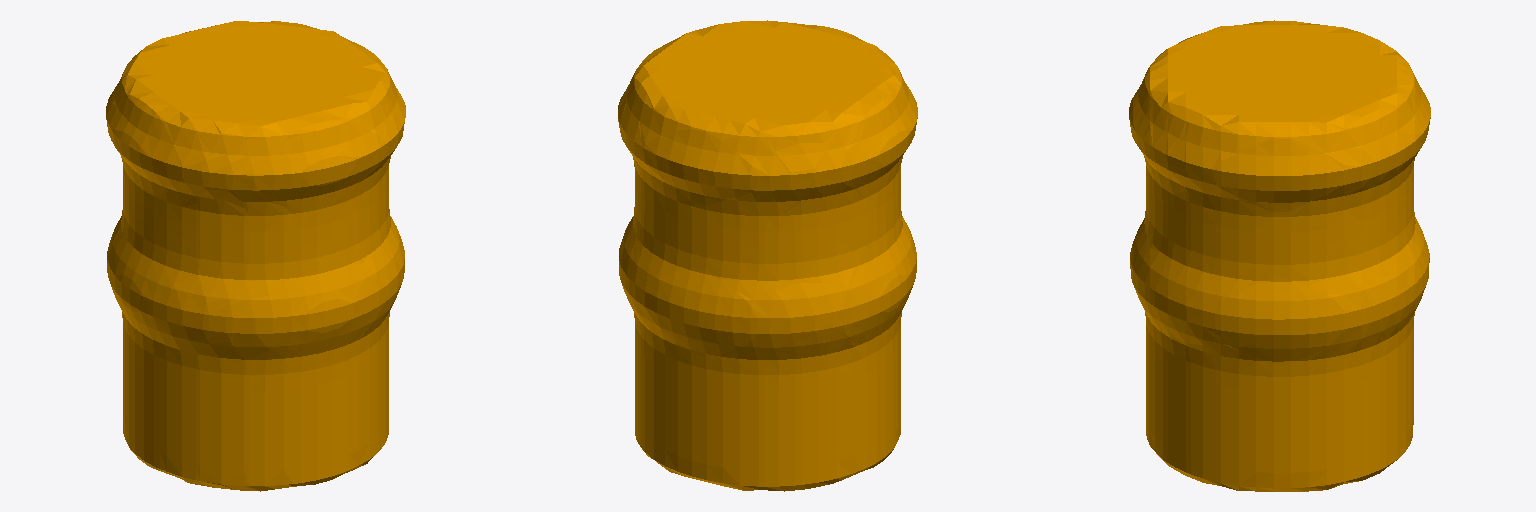
URDF robot description (cylinder_../../meshes/cylinders/cylinder_61.stl):
<?xml version="1.0" encoding="utf-8"?>  <robot name="cylinder_../../meshes/cylinders/cylinder_61.stl">   <link name="cylinder_../../meshes/cylinders/cylinder_61.stl">     <visual>       <geometry>         <mesh filename="../meshes/cylinders/cylinder_61.stl" scale="1 1 1"/>       </geometry>     </visual>     <collision>       <geometry>         <mesh filename="../meshes/cylinders/cylinder_61.stl" scale="1 1 1"/>       </geometry>     </collision>     <inertial>        <origin         xyz="0 0 0"         rpy="0 0 0" />       <mass value="0.554587744783615"/>       <origin rpy="0 0 0" xyz="0 0 0"/>       <inertia ixx="0.0008165385025342961" ixy="1.351224918593318e-08" ixz="2.4172365936160312e-08" iyy="0.0008165379533432" iyz="4.246112730033585e-08" izz="0.00042759288844680893"/>     </inertial>   </link>  </robot>

--- What the picture shows (computed from the rendered views, not written in the file) ---
Views: 3 orthographic renders of the robot side by side, from view 1: azimuth 30°, elevation 25°; view 2: azimuth 150°, elevation 25°; view 3: azimuth 270°, elevation 25°.
Model cylinder_../../meshes/cylinders/cylinder_61.stl with 1 links and 0 joints (none), rooted at cylinder_../../meshes/cylinders/cylinder_61.stl, posed every joint at zero.
Links seen in each view (by area): view 1: cylinder_../../meshes/cylinders/cylinder_61.stl; view 2: cylinder_../../meshes/cylinders/cylinder_61.stl; view 3: cylinder_../../meshes/cylinders/cylinder_61.stl.
Boxes of the visible links, left/top/right/bottom form: cylinder_../../meshes/cylinders/cylinder_61.stl: left=106, top=21, right=405, bottom=491; cylinder_../../meshes/cylinders/cylinder_61.stl: left=618, top=20, right=917, bottom=491; cylinder_../../meshes/cylinders/cylinder_61.stl: left=1129, top=20, right=1430, bottom=491.
Size in the robot's own frame: 0.0857 by 0.0857 by 0.1155 metres.
1 mesh visuals loaded from 1 distinct referenced files (1 binary STL).